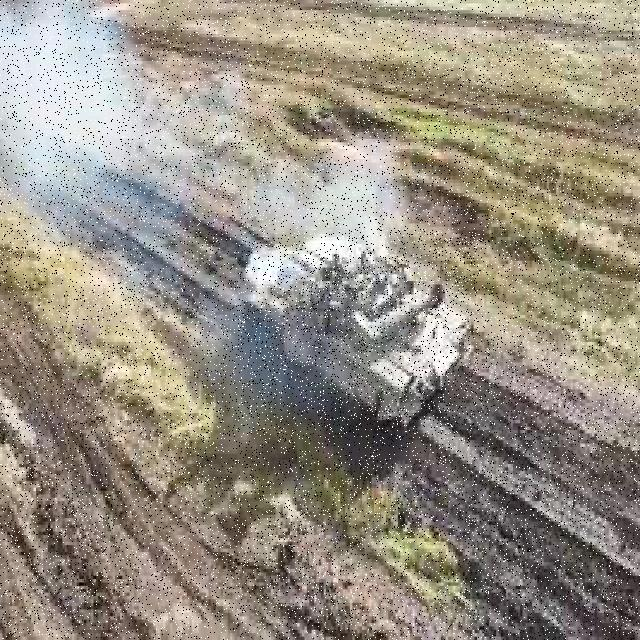MIL_MBT: (241, 232, 479, 435)
